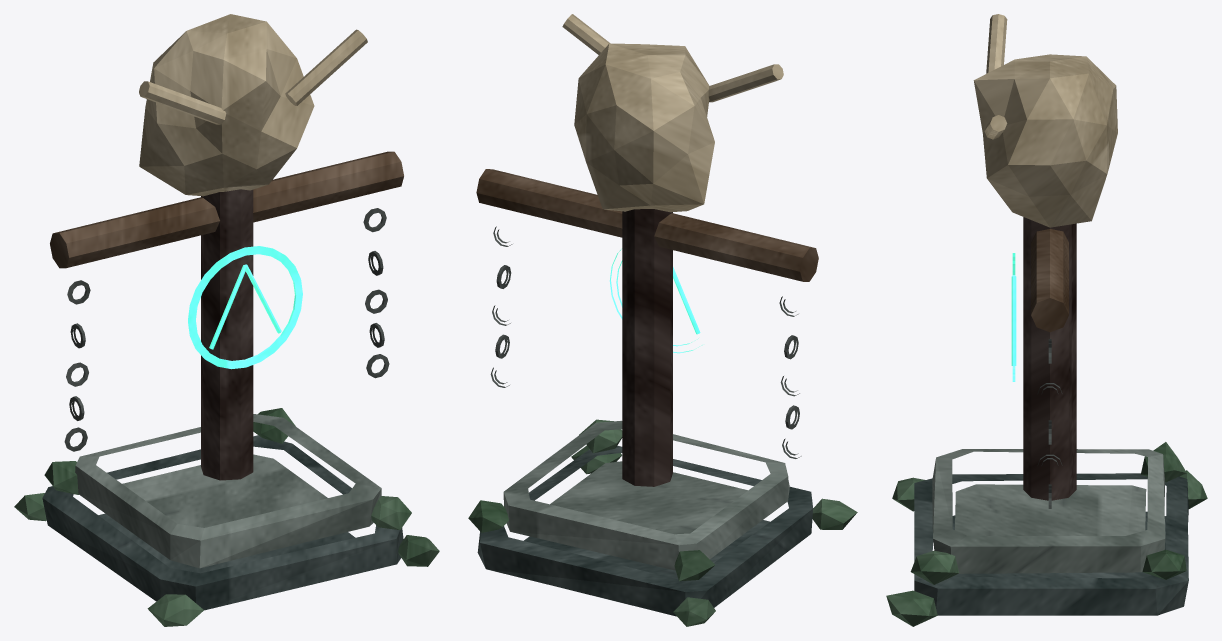
Rendered from 0516_effigy_16.glb.
The picture shows the model from 3 angles, left to right: view 1: azimuth 30°, elevation 25°; view 2: azimuth 150°, elevation 25°; view 3: azimuth 270°, elevation 25°; orthographic projection. The views are drawn at different scales.
Visible parts, largest first — view 1: bone, stone, stone_dark, wood_dark, wood, moss, glow, iron; view 2: bone, stone, stone_dark, wood_dark, wood, moss, iron, glow; view 3: bone, stone, stone_dark, wood_dark, moss, wood, glow, iron.
Part boxes in pixels (bbox=[...]): bone: bbox=[139, 14, 367, 196]; stone: bbox=[75, 414, 381, 568]; stone_dark: bbox=[42, 435, 403, 610]; wood_dark: bbox=[201, 189, 253, 480]; wood: bbox=[50, 151, 403, 268]; moss: bbox=[14, 408, 439, 626]; glow: bbox=[188, 246, 302, 369]; iron: bbox=[64, 208, 389, 451]; bone: bbox=[562, 14, 783, 212]; stone: bbox=[503, 420, 789, 570]; stone_dark: bbox=[477, 445, 813, 616]; wood_dark: bbox=[622, 209, 672, 486]; wood: bbox=[476, 169, 818, 281]; moss: bbox=[468, 419, 857, 626]; iron: bbox=[490, 226, 801, 458]; glow: bbox=[609, 249, 702, 353]; bone: bbox=[973, 14, 1117, 227]; stone: bbox=[932, 449, 1165, 573]; stone_dark: bbox=[914, 473, 1188, 615]; wood_dark: bbox=[1023, 217, 1076, 500]; moss: bbox=[886, 442, 1207, 626]; wood: bbox=[1031, 229, 1068, 332]; glow: bbox=[1011, 253, 1016, 381]; iron: bbox=[1037, 339, 1062, 508].
Size of the model in its own units: 2 by 2.93 by 1.69.
8 materials, 8 textured.
